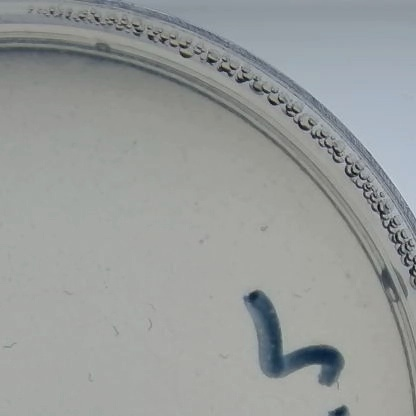worm: (103, 320, 125, 343), (0, 334, 21, 356), (286, 285, 304, 310), (254, 223, 275, 237), (214, 347, 233, 362), (196, 235, 214, 250), (82, 370, 99, 385), (61, 288, 82, 299), (142, 317, 154, 335), (144, 303, 160, 316), (76, 329, 94, 340)
